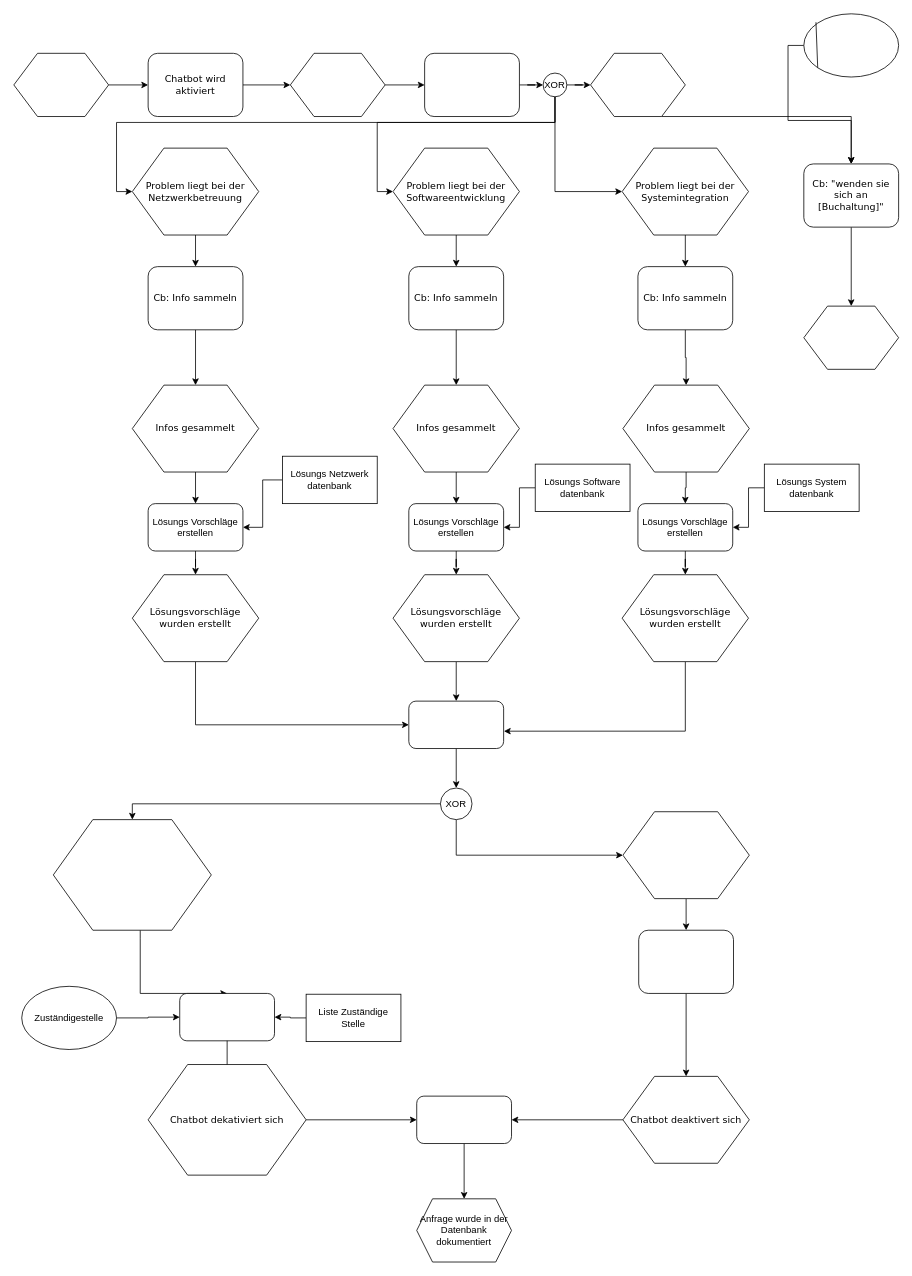
Some shapes in this 912 by 1276 pixel diagram are drawn without their labels. The shapes that lost their labels are listed below. From the top down, each one's centre as x and y in pixels, then its label:
point (851, 45): Buchhaltung
point (61, 85): Kunde hat Problem
point (337, 85): Chatbot ist aktiviert
point (471, 85): Cb: "In welchen Bereichen kann ich behilflich sein?"
point (637, 85): Problem liegt bei der Buchaltung
point (851, 337): Kunde wurde weitergeleitet
point (456, 724): Lösungs Vorschläge durchgeführt
point (132, 874): Lösungsvorschläge waren nichterfolgreich
point (685, 855): Lösungsvorschläge waren erfolgreich
point (686, 961): Cb: "Auf Wiedersehen"
point (227, 1017): Cb:"Ich konnte ihnen nicht helfen. Bitte wenden sie sich an [Zuständige Stelle]"
point (464, 1119): Anfrage wird Dokumentiert
